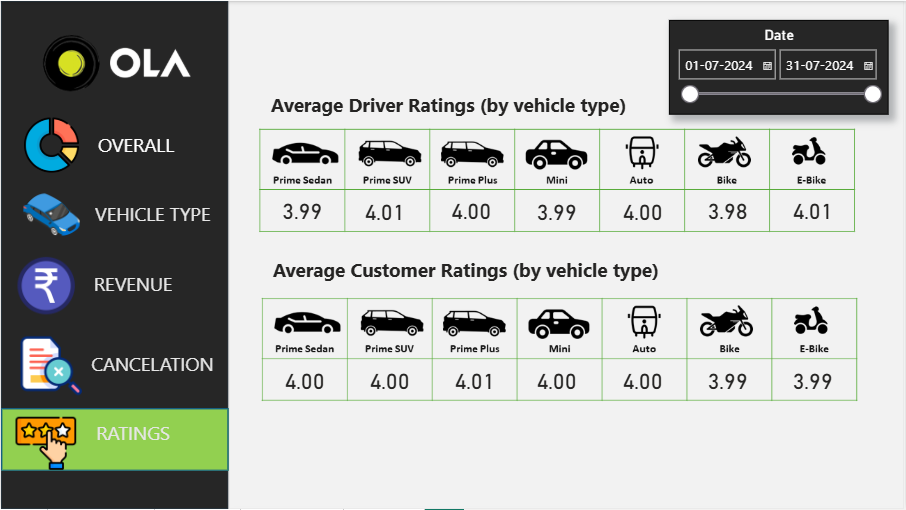

The dashboard page shown, as its layout file describes it:
{"tool":"powerbi","page":{"name":"Ratings","canvas":[1280,720],"ordinal":4},"visuals":[{"type":"shape","box":[0,0,322,720],"z":0},{"type":"image","box":[144.6,52.4,134.6,70.9],"z":1000},{"type":"image","box":[0,0,199.8,175.7],"z":2000},{"type":"shape","box":[0,577.3,322.7,89.4],"z":3000},{"type":"textbox","box":[124.2,180.3,133.3,51.5],"z":4000},{"type":"textbox","box":[124.2,277.3,187.9,51.5],"z":5000},{"type":"textbox","box":[119.7,377.3,136.4,51.5],"z":6000},{"type":"image","box":[15.2,253,112.1,98.5],"z":7000},{"type":"image","box":[15.2,160.6,112.1,87.9],"z":8000},{"type":"image","box":[15.2,353,97,100],"z":9000},{"type":"image","box":[22.7,466.7,97,100],"z":10000},{"type":"textbox","box":[118.2,490.9,193.9,51.5],"z":11000},{"type":"image","box":[15.6,576.9,96.4,99.2],"z":12000},{"type":"textbox","box":[119.7,587.9,136.4,50],"z":13000},{"type":"actionButton","box":[0,257.6,322.7,89.4],"z":14000},{"type":"actionButton","box":[0,357.6,322.7,89.4],"z":15000},{"type":"actionButton","box":[0,471.2,322.7,89.4],"z":16000},{"type":"actionButton","box":[0,160.6,322.7,89.4],"z":17000},{"type":"image","box":[322.5,0,957.5,720.6],"z":18000},{"type":"card","fields":{"Values":["Avg(July.Driver_Ratings)"]},"box":[369.6,263.7,114.2,63.8],"z":19000},{"type":"card","fields":{"Values":["Avg(July.Driver_Ratings)"]},"box":[483.8,265.4,120.9,63.8],"z":20000},{"type":"card","fields":{"Values":["Avg(July.Driver_Ratings)"]},"box":[604.7,263.7,122.6,63.8],"z":21000},{"type":"card","fields":{"Values":["Avg(July.Driver_Ratings)"]},"box":[727.3,265.4,120.9,63.8],"z":22000},{"type":"card","fields":{"Values":["Avg(July.Driver_Ratings)"]},"box":[848.3,265.4,120.9,63.8],"z":23000},{"type":"card","fields":{"Values":["Avg(July.Driver_Ratings)"]},"box":[969.2,263.7,120.9,63.8],"z":24000},{"type":"card","fields":{"Values":["Avg(July.Driver_Ratings)"]},"box":[1090.2,263.7,120.9,63.8],"z":25000},{"type":"card","fields":{"Values":["Avg(July.Customer_Rating)"]},"box":[369.6,503.9,120.9,63.8],"z":26000},{"type":"card","fields":{"Values":["Avg(July.Customer_Rating)"]},"box":[490.5,503.9,120.9,63.8],"z":27000},{"type":"card","fields":{"Values":["Avg(July.Customer_Rating)"]},"box":[611.4,503.9,120.9,63.8],"z":28000},{"type":"card","fields":{"Values":["Avg(July.Customer_Rating)"]},"box":[727.3,503.9,120.9,63.8],"z":29000},{"type":"card","fields":{"Values":["Avg(July.Customer_Rating)"]},"box":[848.3,503.9,120.9,63.8],"z":30000},{"type":"card","fields":{"Values":["Avg(July.Customer_Rating)"]},"box":[969.2,503.9,120.9,63.8],"z":31000},{"type":"card","fields":{"Values":["Avg(July.Customer_Rating)"]},"box":[1090.2,503.9,120.9,63.8],"z":32000},{"type":"textbox","box":[366.2,122.6,537.5,50.4],"z":33000},{"type":"textbox","box":[369.6,357.8,577.8,48.7],"z":34000},{"type":"slicer","title":"Date","fields":{"Values":["July.Date"]},"box":[947.4,26.9,310.8,134.4],"z":35000}]}

Visuals, with their boxes in screenshot pixels (x1, y1, x2, y2), scaled from the page's 1280x720 canvas onto the 906x510 screenshot:
shape: (0, 0, 228, 509)
image: (102, 37, 198, 87)
image: (0, 0, 141, 124)
shape: (0, 409, 228, 472)
textbox: (88, 128, 182, 164)
textbox: (88, 196, 221, 233)
textbox: (85, 267, 181, 304)
image: (11, 179, 90, 249)
image: (11, 114, 90, 176)
image: (11, 250, 79, 321)
image: (16, 331, 85, 401)
textbox: (84, 348, 221, 384)
image: (11, 409, 79, 479)
textbox: (85, 416, 181, 452)
actionButton: (0, 182, 228, 246)
actionButton: (0, 253, 228, 317)
actionButton: (0, 334, 228, 397)
actionButton: (0, 114, 228, 177)
image: (228, 0, 905, 509)
card - Avg(July.Driver_Ratings): (262, 187, 342, 232)
card - Avg(July.Driver_Ratings): (342, 188, 428, 233)
card - Avg(July.Driver_Ratings): (428, 187, 515, 232)
card - Avg(July.Driver_Ratings): (515, 188, 600, 233)
card - Avg(July.Driver_Ratings): (600, 188, 686, 233)
card - Avg(July.Driver_Ratings): (686, 187, 772, 232)
card - Avg(July.Driver_Ratings): (772, 187, 857, 232)
card - Avg(July.Customer_Rating): (262, 357, 347, 402)
card - Avg(July.Customer_Rating): (347, 357, 433, 402)
card - Avg(July.Customer_Rating): (433, 357, 518, 402)
card - Avg(July.Customer_Rating): (515, 357, 600, 402)
card - Avg(July.Customer_Rating): (600, 357, 686, 402)
card - Avg(July.Customer_Rating): (686, 357, 772, 402)
card - Avg(July.Customer_Rating): (772, 357, 857, 402)
textbox: (259, 87, 640, 123)
textbox: (262, 253, 671, 288)
"Date" slicer: (671, 19, 891, 114)
